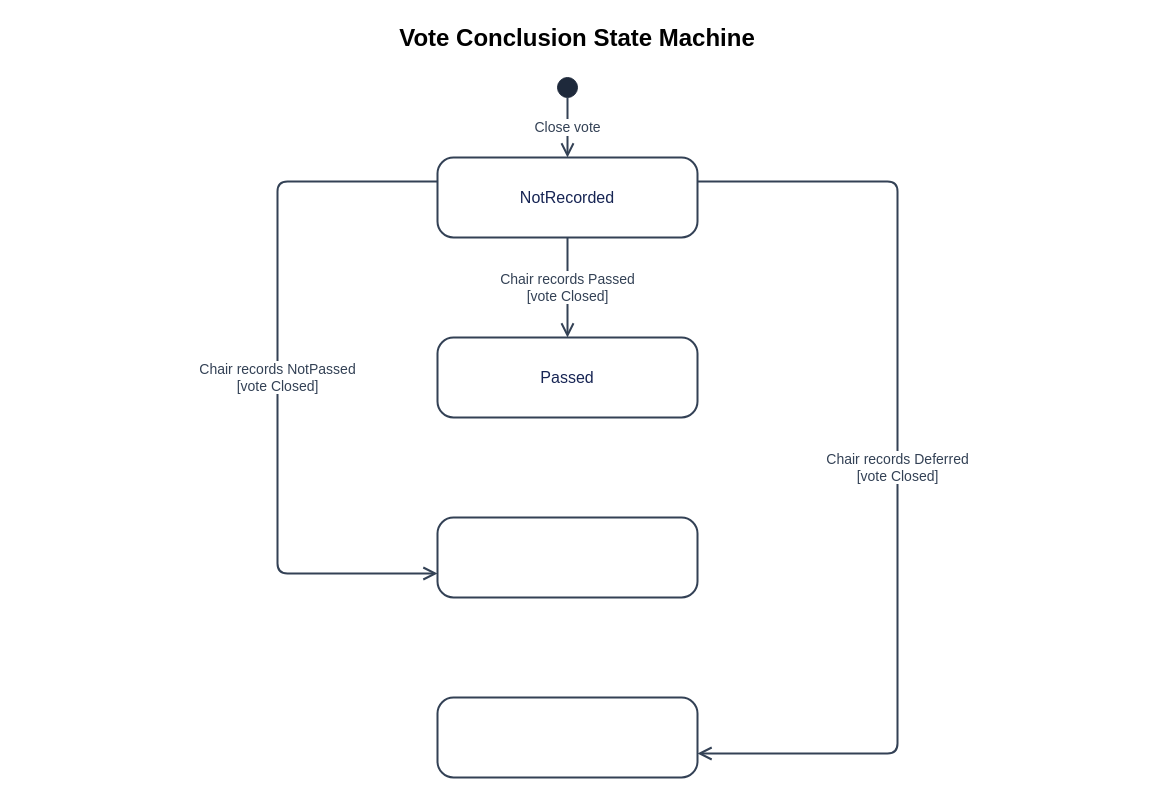
The diagram is 1154 pixels wide and 795 high, and some of its shapes have lost their labels. Each missing label, with the centre of its shape:
Deferred: pixel 567 737
NotPassed: pixel 567 557
